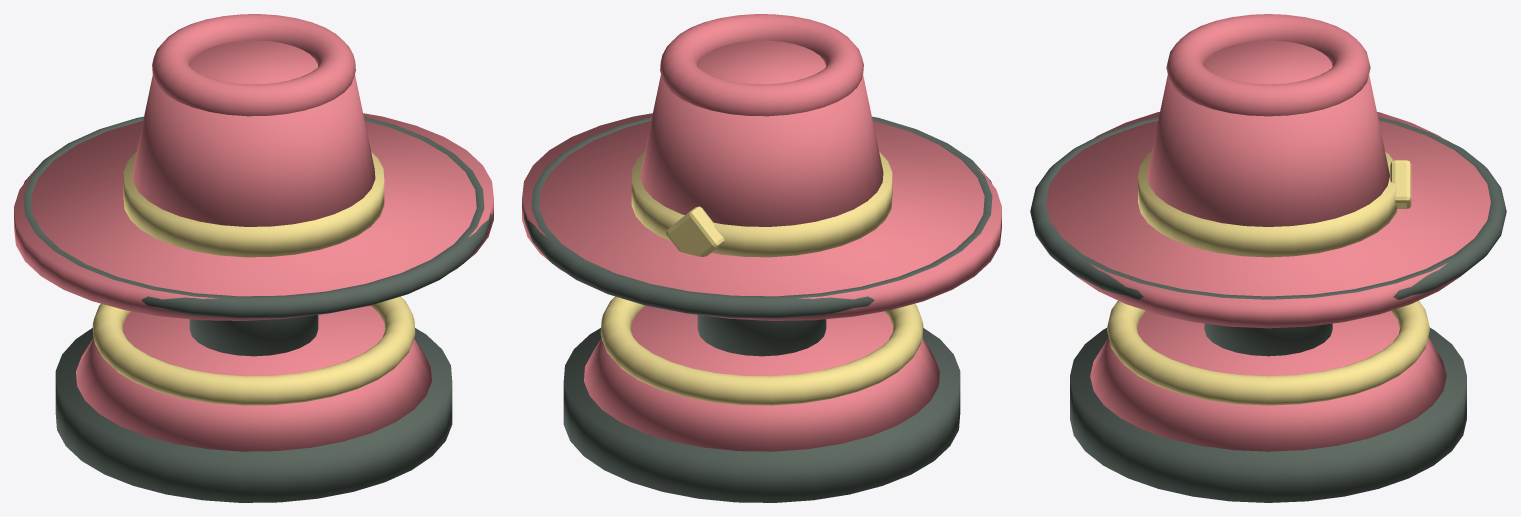
Rendered from pawn_chapeu.glb.
The picture shows the model from 3 angles, left to right: view 1: azimuth 30°, elevation 25°; view 2: azimuth 150°, elevation 25°; view 3: azimuth 270°, elevation 25°; orthographic projection.
Parts seen in each view (by area): view 1: HatBrim, Crown, PedestalColor, PedestalObsidian, CrownDimple, PedestalGoldTrim, BrimRim, CrownBand, HatPillar; view 2: HatBrim, Crown, PedestalColor, PedestalObsidian, CrownDimple, PedestalGoldTrim, BrimRim, CrownBand, HatPillar, BarbicachoCoin; view 3: HatBrim, Crown, PedestalColor, PedestalObsidian, CrownDimple, PedestalGoldTrim, BrimRim, CrownBand, HatPillar, BarbicachoCoin.
Part boxes in pixels (x1,y1,x2,y2): HatBrim: (14, 113, 493, 320); Crown: (132, 40, 375, 226); PedestalColor: (76, 305, 431, 451); PedestalObsidian: (55, 328, 452, 502); CrownDimple: (152, 14, 355, 116); PedestalGoldTrim: (92, 296, 415, 405); BrimRim: (23, 116, 491, 318); CrownBand: (123, 151, 384, 257); HatPillar: (189, 315, 318, 356); HatBrim: (522, 113, 1001, 320); Crown: (640, 40, 883, 226); PedestalColor: (584, 305, 939, 451); PedestalObsidian: (563, 328, 960, 502); CrownDimple: (660, 14, 863, 116); PedestalGoldTrim: (600, 296, 923, 405); BrimRim: (524, 116, 992, 318); CrownBand: (631, 151, 892, 257); HatPillar: (697, 315, 826, 356); BarbicachoCoin: (666, 206, 724, 256); HatBrim: (1046, 112, 1490, 328); Crown: (1147, 40, 1389, 226); PedestalColor: (1090, 311, 1446, 451); PedestalObsidian: (1070, 328, 1466, 502); CrownDimple: (1166, 14, 1370, 116); PedestalGoldTrim: (1107, 300, 1429, 405); BrimRim: (1030, 117, 1506, 299); CrownBand: (1138, 151, 1397, 257); HatPillar: (1204, 323, 1332, 356); BarbicachoCoin: (1390, 160, 1411, 208).
Size of the model in its own units: 0.5194 by 0.4295 by 0.504.
